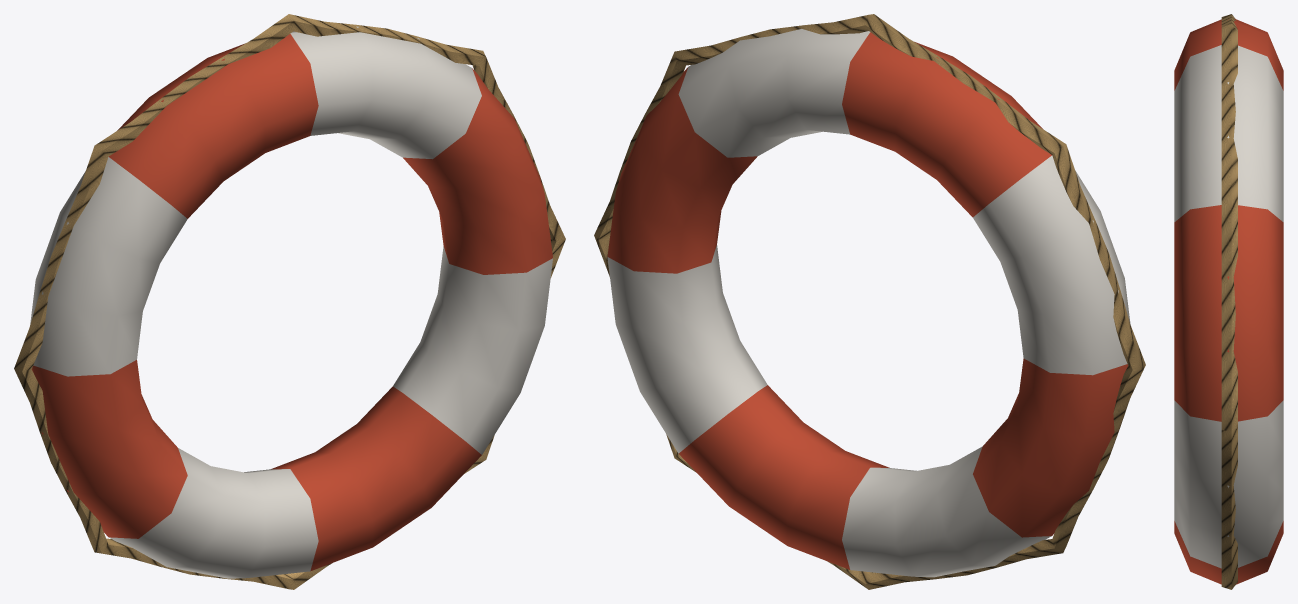
Rendered from life-ring.glb.
The picture shows the model from 3 angles, left to right: view 1: azimuth 30°, elevation 25°; view 2: azimuth 150°, elevation 25°; view 3: azimuth 270°, elevation 25°; orthographic projection. The views are drawn at different scales.
Parts seen in each view (by area): view 1: life-ring; view 2: life-ring; view 3: life-ring.
Part boxes in pixels (x1=…): life-ring: x1=14, y1=14, x2=565, y2=589; life-ring: x1=594, y1=14, x2=1145, y2=589; life-ring: x1=1174, y1=14, x2=1283, y2=589.
Size of the model in its own units: 0.9511 by 0.9511 by 0.17.
2 materials, 1 textured.
